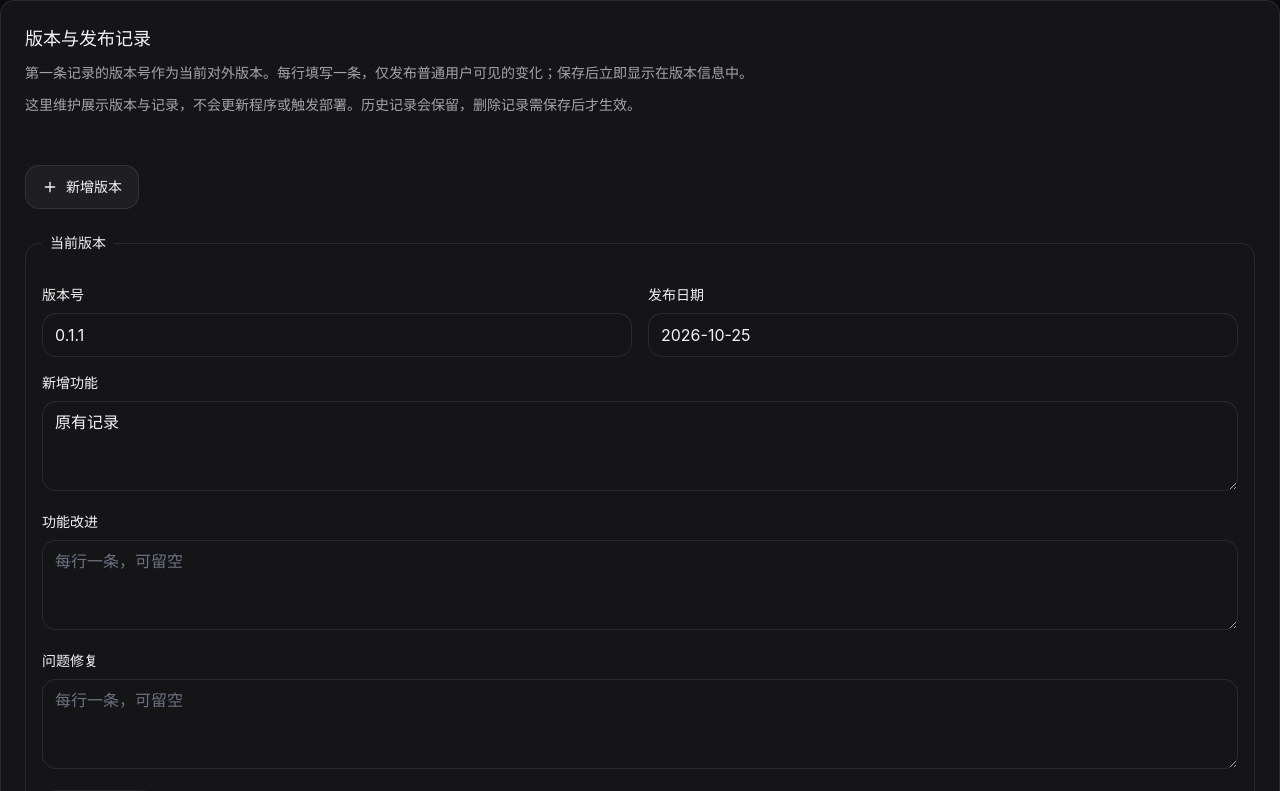
Scenario: conflict preserves draft and exposes an explicit reload action
The image size is (1280, 791).
Replace the text in the text box labelled "新增功能" with "未保存的草稿": [640, 446] box [42,401,1238,491]
(page scrolled)
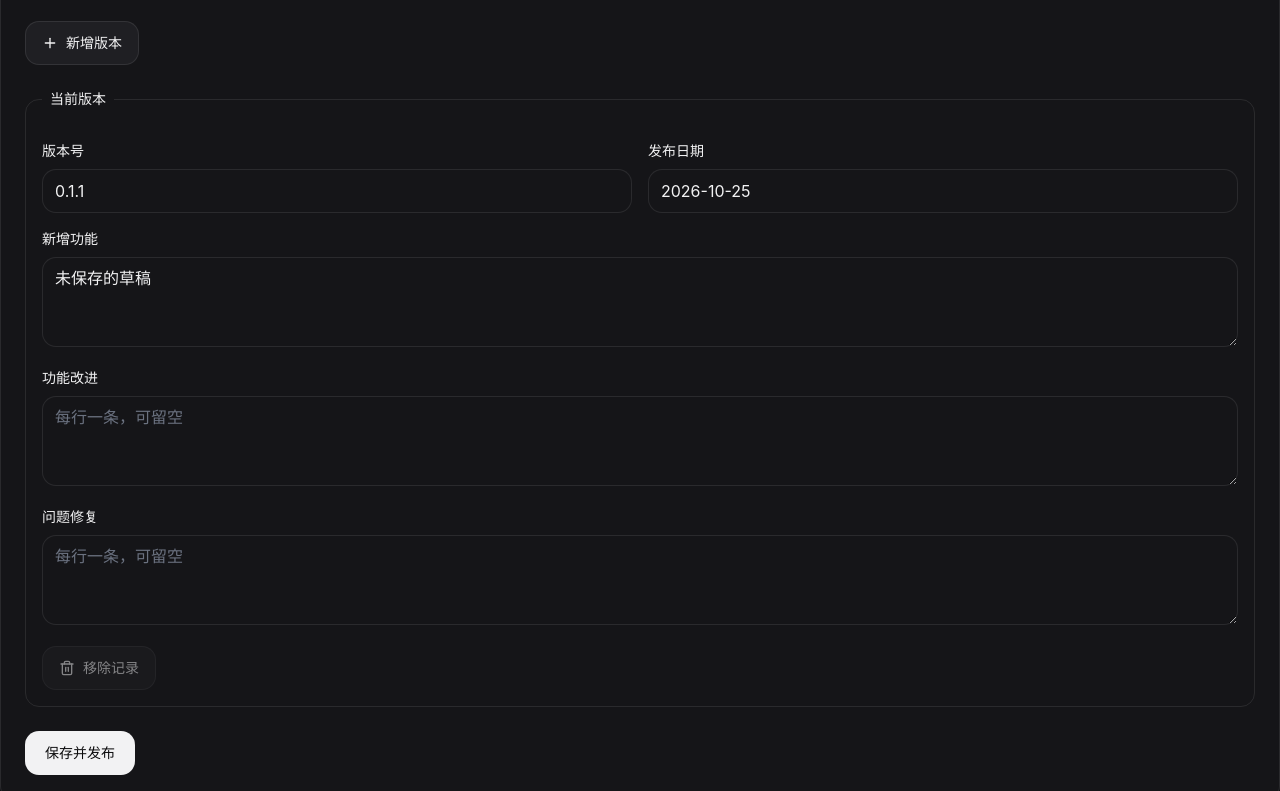
Click the button "保存并发布": [80, 753] box [25,731,135,775]
(page scrolled)
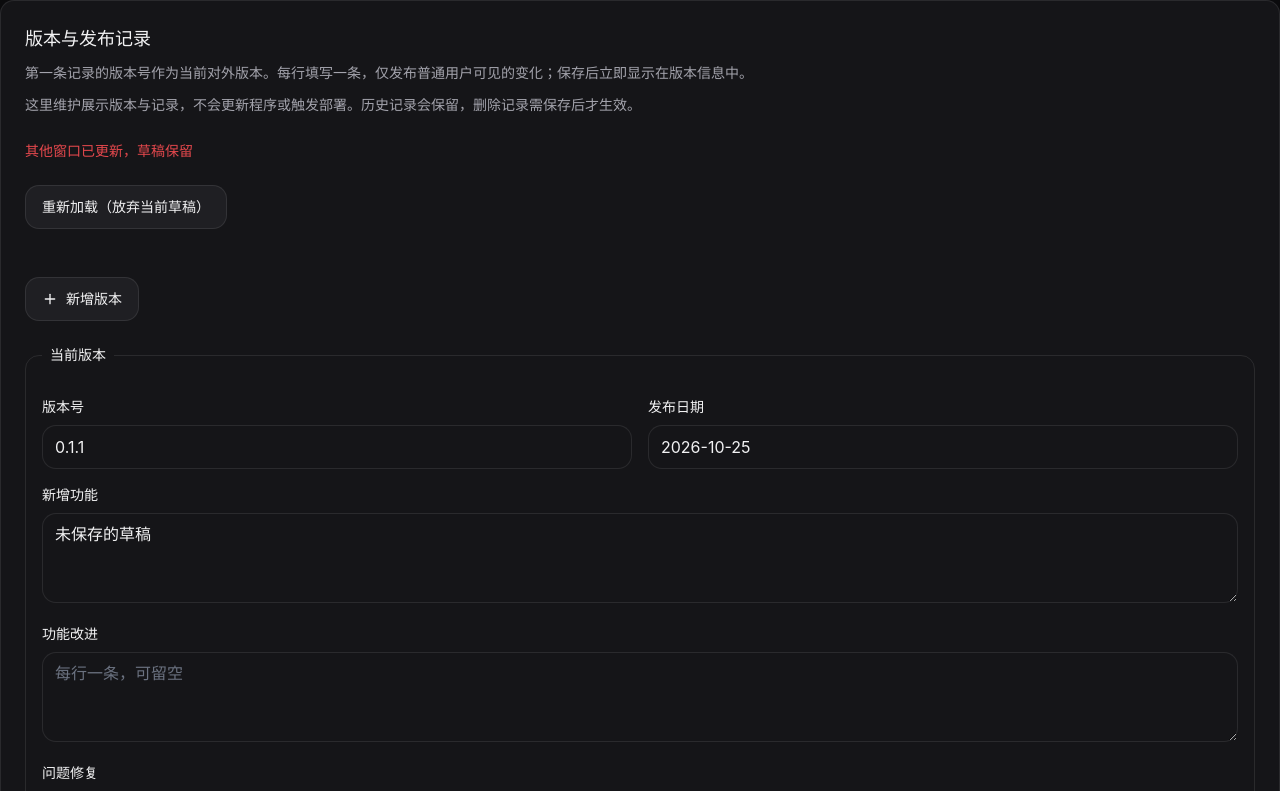
Check: the text "其他窗口已更新，草稿保留" is shown, box [25,142,193,159]
Click the button "重新加载（放弃当前草稿）": [126, 207] box [25,185,227,229]
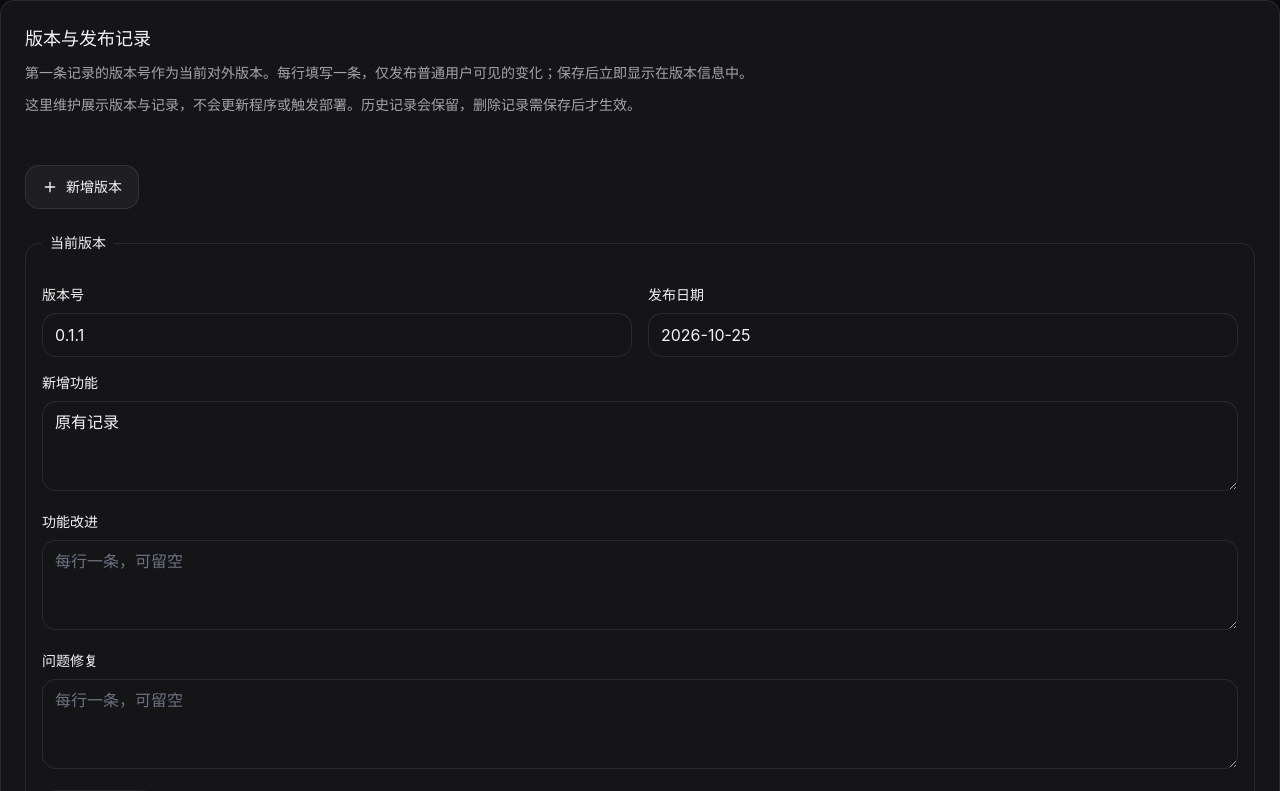
Check: the field showing "未保存的草稿" is not shown
Check: the text box showing "原有记录" is shown, box [42,401,1238,491]
